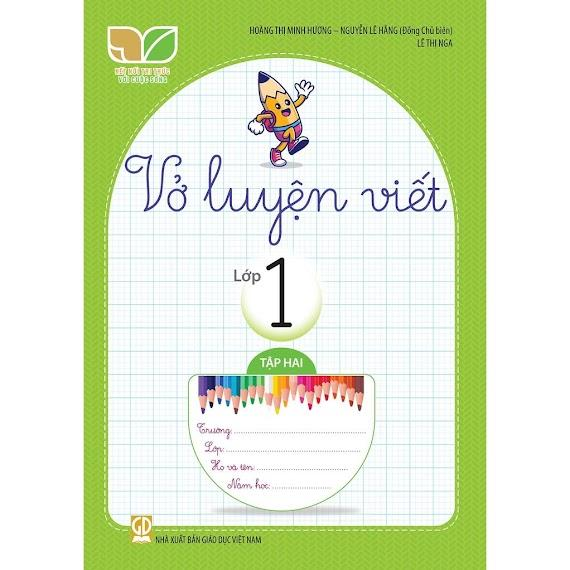text: (122, 152, 448, 247), (247, 23, 453, 38), (261, 256, 298, 331), (153, 536, 263, 547), (258, 354, 304, 372), (195, 421, 233, 441), (209, 458, 255, 473), (226, 477, 270, 492), (229, 266, 263, 285), (113, 66, 171, 77), (130, 515, 152, 538), (113, 76, 168, 85), (415, 37, 454, 49), (203, 441, 223, 457)
